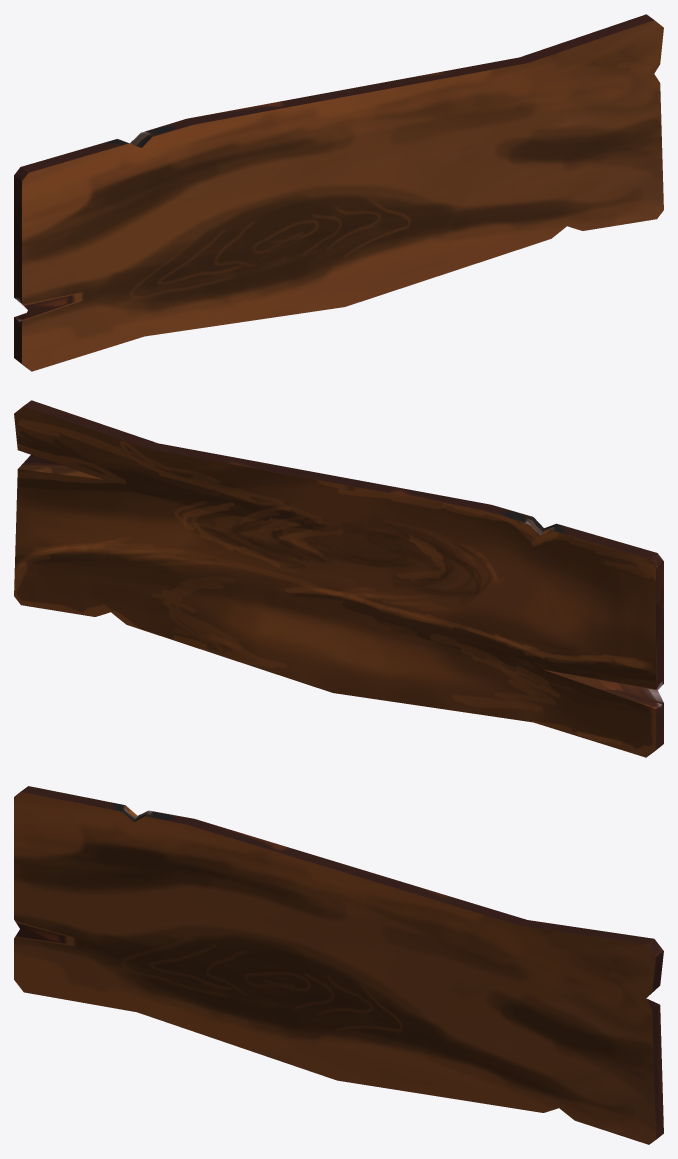
The model's file is wood plank separate piece .fbx.
3 views of the same model, one above another, from view 1: azimuth 30°, elevation 25°; view 2: azimuth 150°, elevation 25°; view 3: azimuth 330°, elevation 25° (orthographic).
Visible parts, largest first — view 1: wood plank; view 2: wood plank; view 3: wood plank.
Boxes of the visible parts, x1,y1,x2,y2 form: wood plank: [14, 14, 663, 371]; wood plank: [14, 400, 663, 757]; wood plank: [14, 786, 663, 1144].
Bounding box in the file's own units: 673 × 220 × 14.44.
